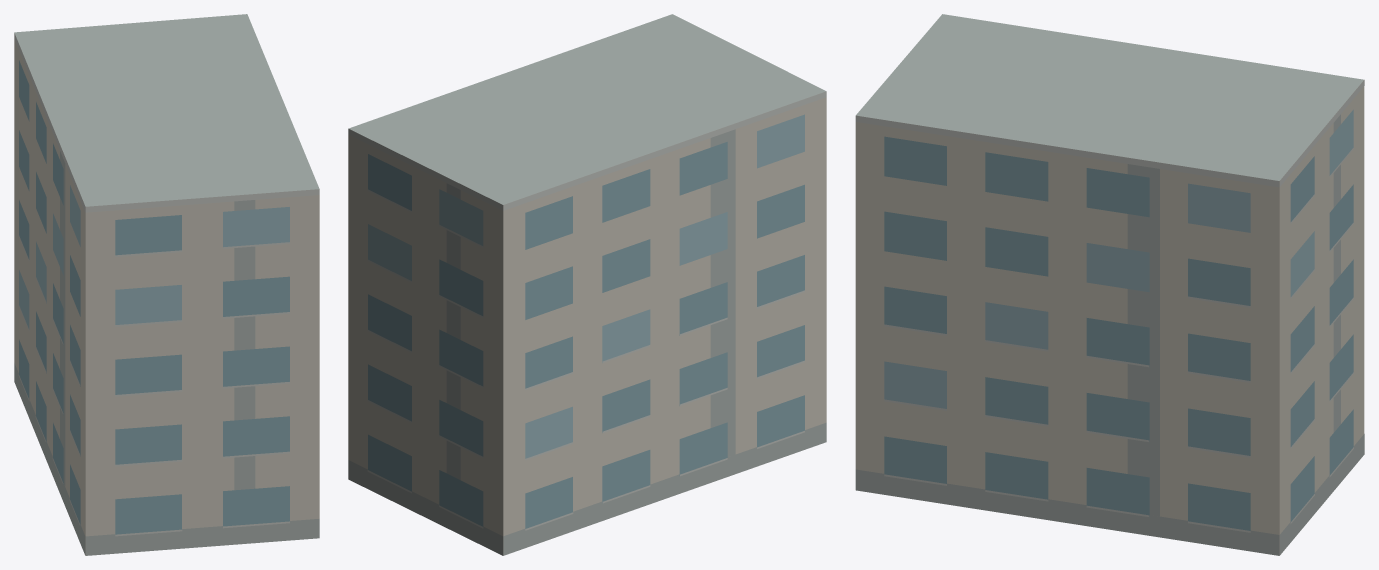
The model's file is survey-upis-32890815.glb.
3 views of the same model, side by side, from view 1: azimuth 30°, elevation 25°; view 2: azimuth 150°, elevation 25°; view 3: azimuth 270°, elevation 25° (orthographic). The views are drawn at different scales.
Parts seen in each view (by area): view 1: survey-upis-32890815.tmp; view 2: survey-upis-32890815.tmp; view 3: survey-upis-32890815.tmp.
Boxes of the visible parts, <box> form: survey-upis-32890815.tmp: <box>14,14,319,555</box>; survey-upis-32890815.tmp: <box>348,14,826,555</box>; survey-upis-32890815.tmp: <box>855,14,1364,555</box>.
Size of the model in its own units: 13.78 by 14.4 by 17.72.
